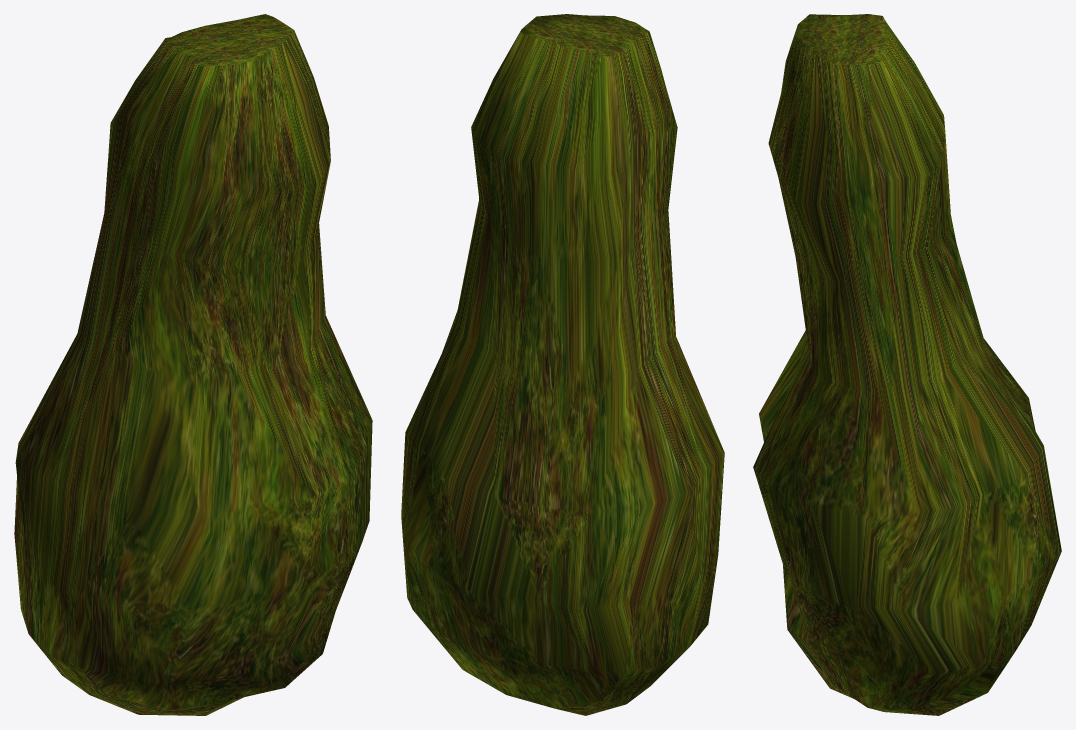
The model's file is LVL_ROAST_MUTTON_ROCK_TILT_PLATFORM.fbx.
The picture shows the model from 3 angles, left to right: view 1: azimuth 30°, elevation 25°; view 2: azimuth 150°, elevation 25°; view 3: azimuth 270°, elevation 25°; orthographic projection. The views are drawn at different scales.
Parts seen in each view (by area): view 1: LVL_ROAST_MUTTON_ROCK_TILT_PLATFORM; view 2: LVL_ROAST_MUTTON_ROCK_TILT_PLATFORM; view 3: LVL_ROAST_MUTTON_ROCK_TILT_PLATFORM.
Part boxes in pixels (bbox=[...]): LVL_ROAST_MUTTON_ROCK_TILT_PLATFORM: bbox=[14, 14, 372, 715]; LVL_ROAST_MUTTON_ROCK_TILT_PLATFORM: bbox=[401, 14, 724, 715]; LVL_ROAST_MUTTON_ROCK_TILT_PLATFORM: bbox=[753, 14, 1061, 715].
Size of the model in its own units: 40382 by 82487 by 34758.
1 material, 1 textured.
